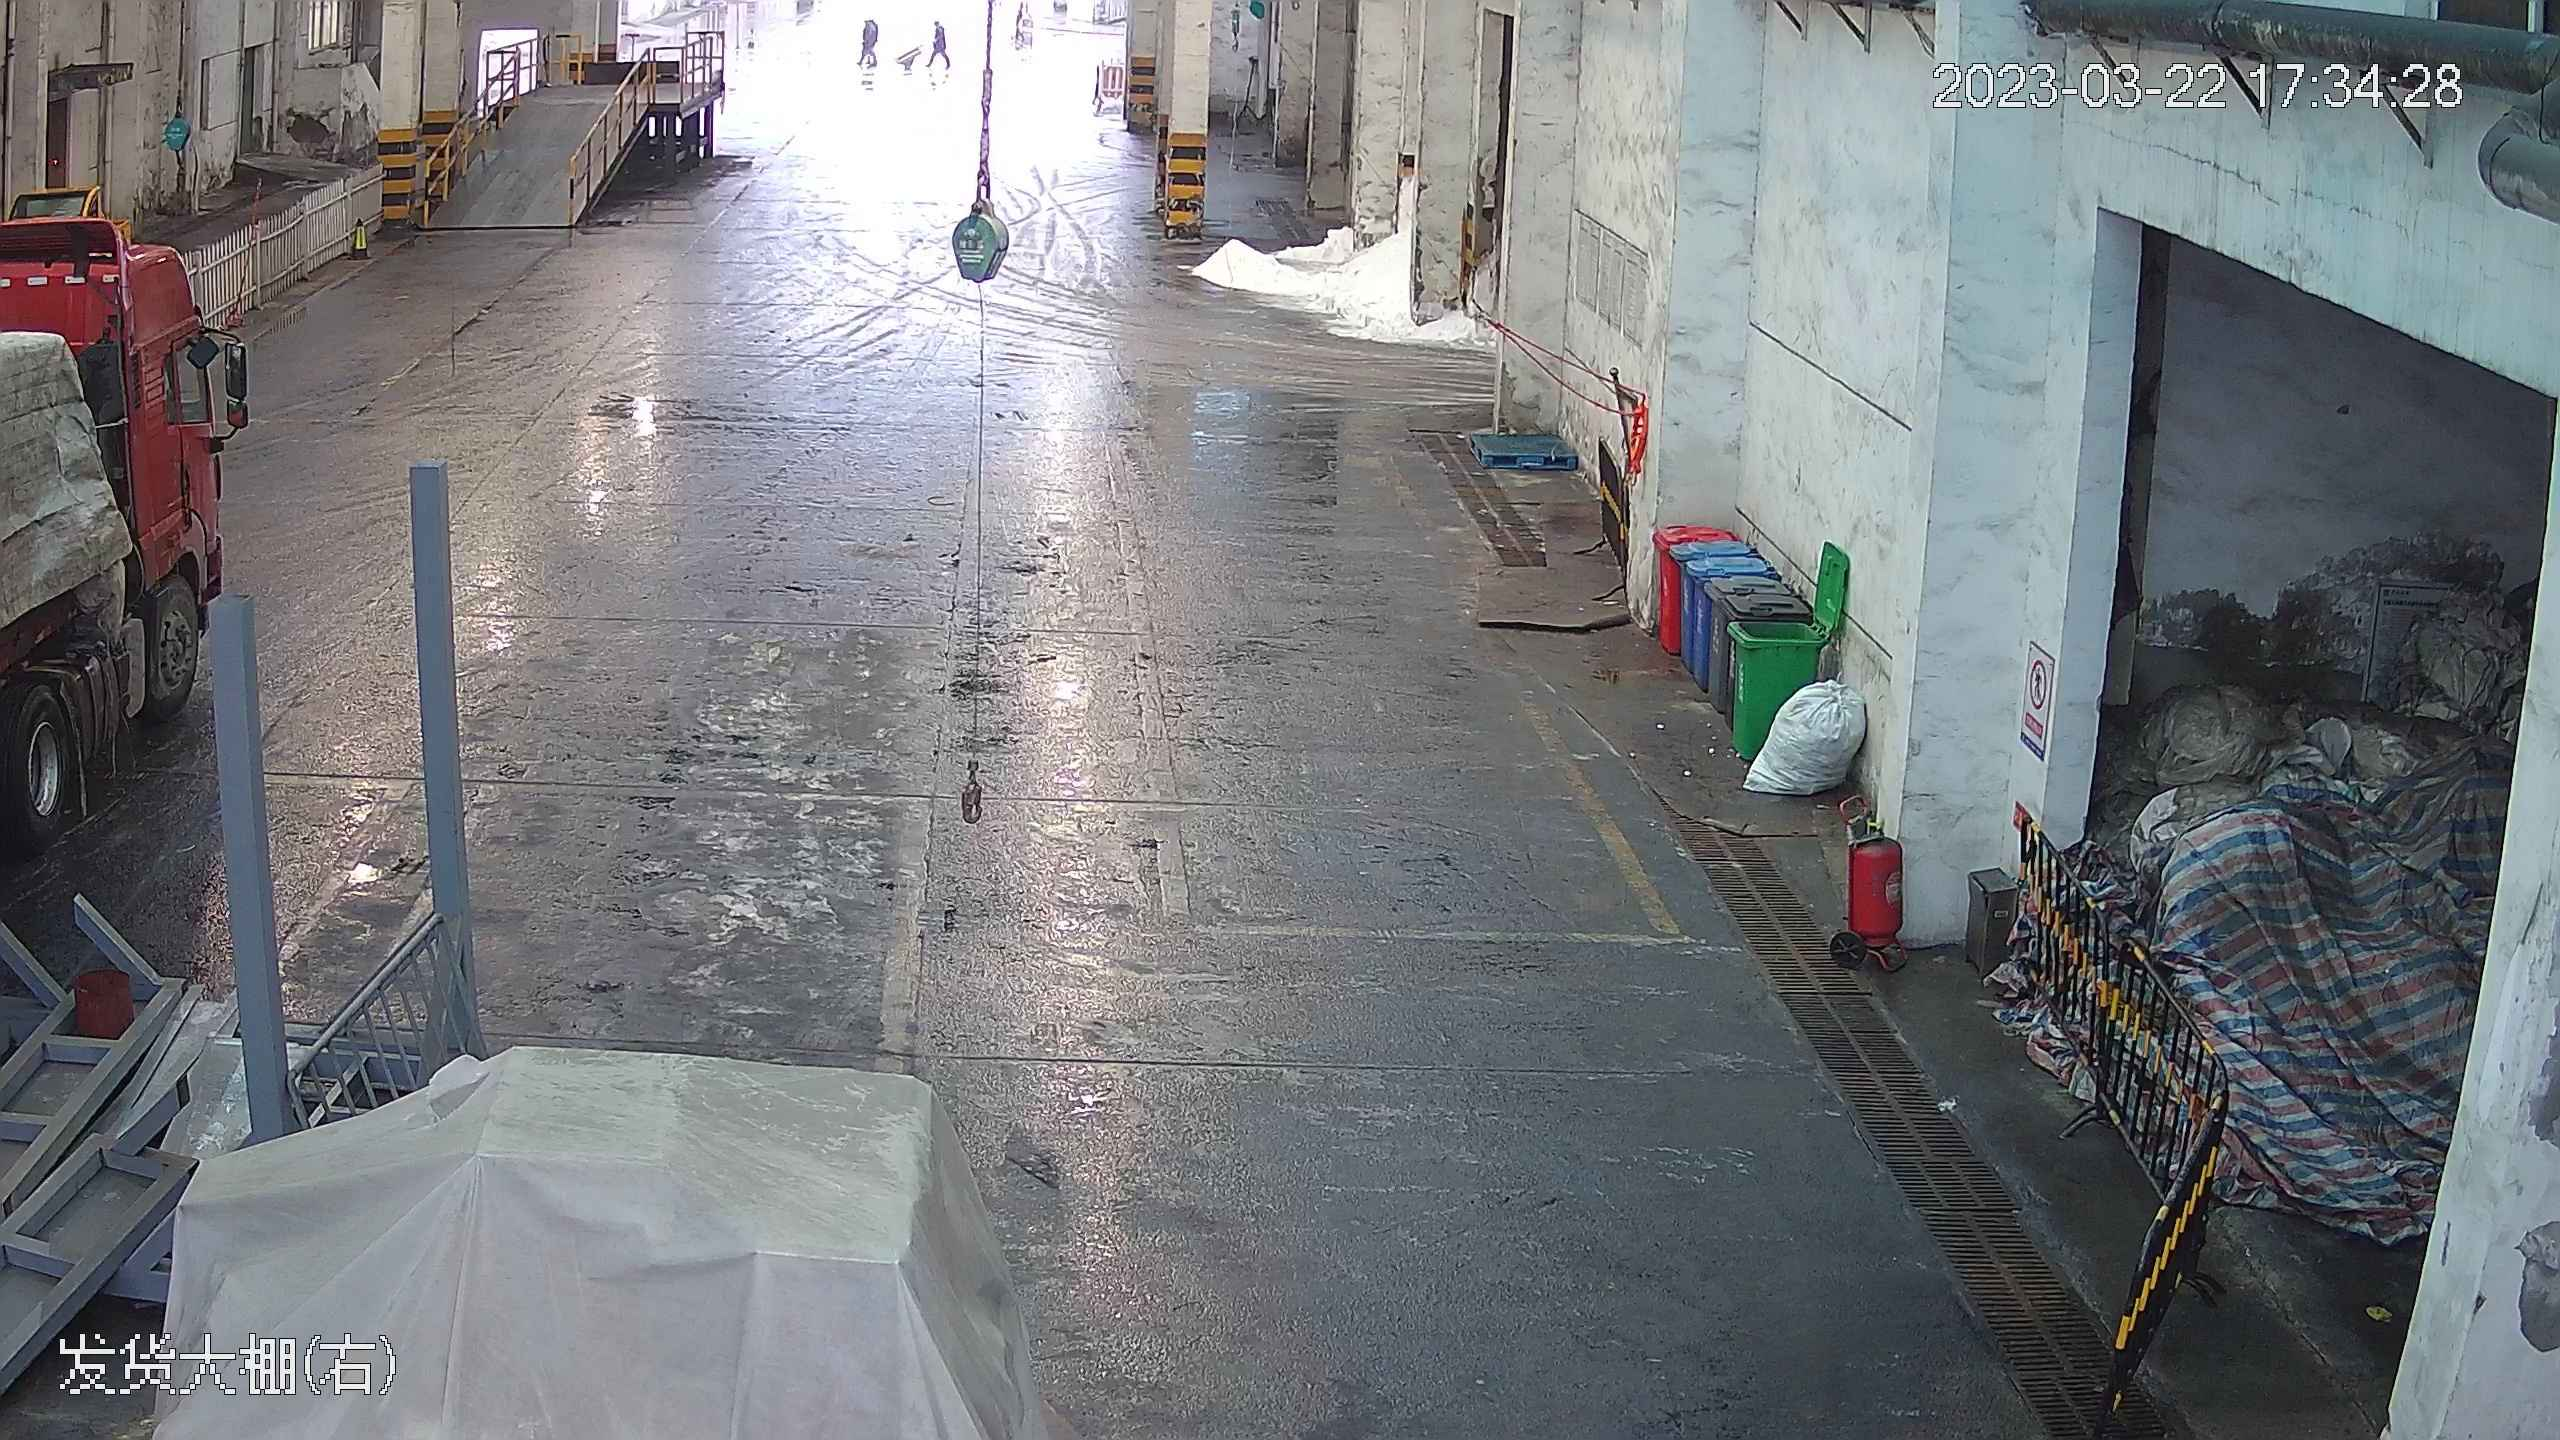people: (856, 10, 885, 88), (926, 17, 956, 69)
truck: (1, 217, 244, 1082)
